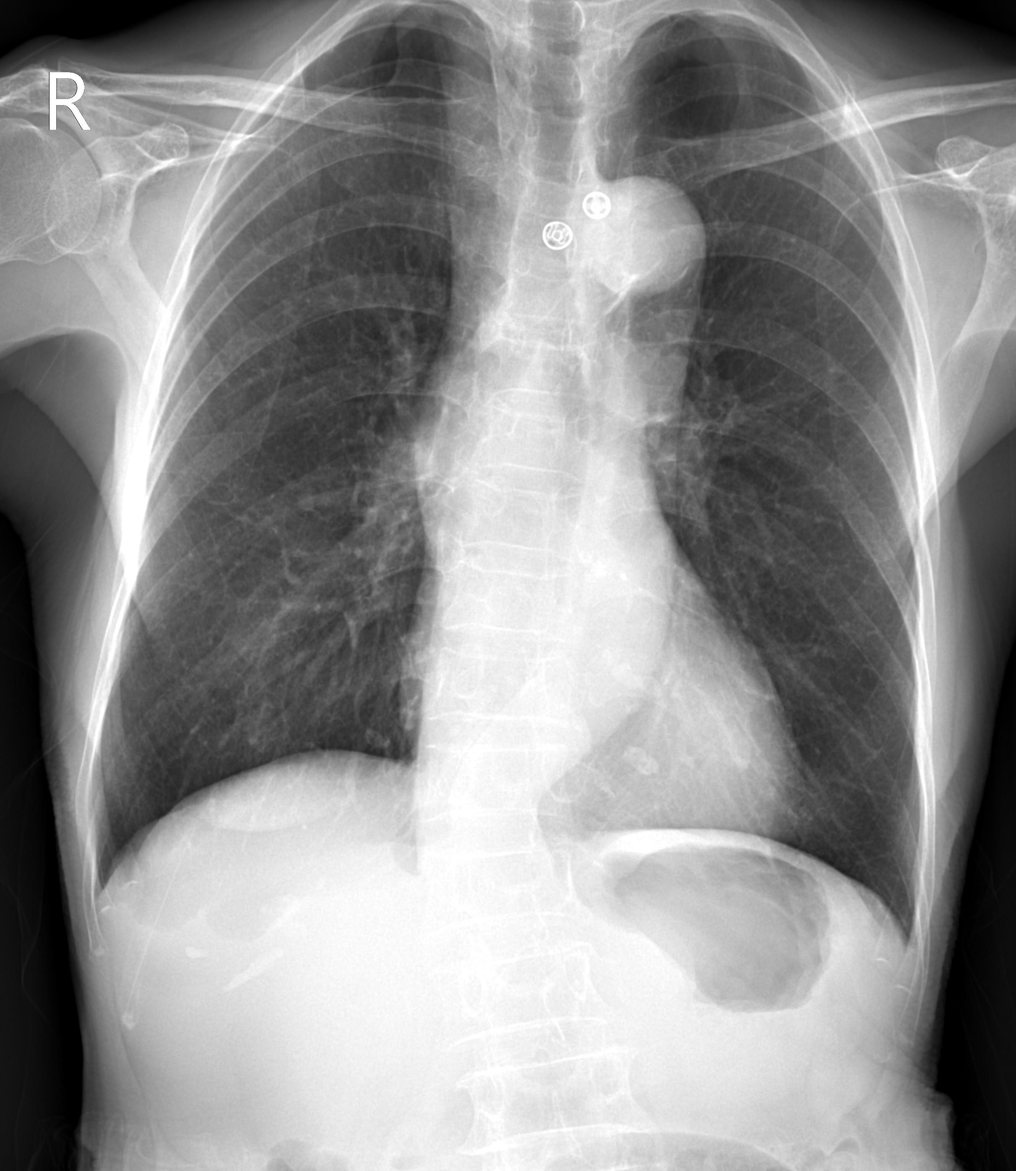Aortic enlargement: (414, 175, 701, 528)
